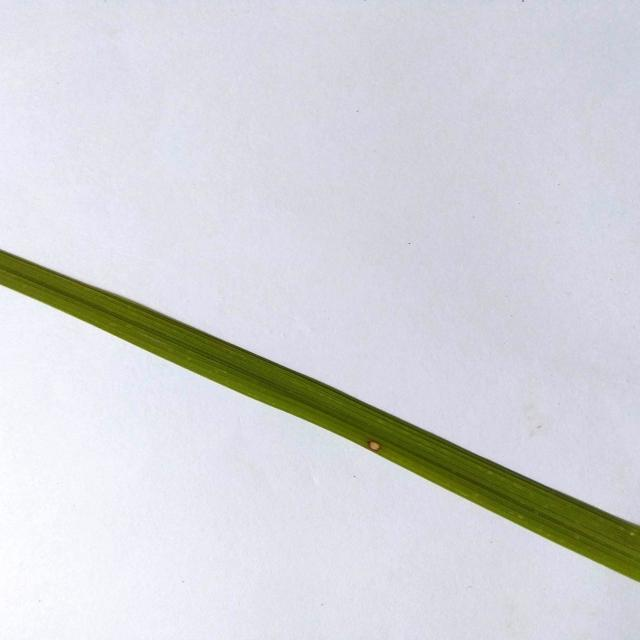Blast: (366, 438, 384, 452)
